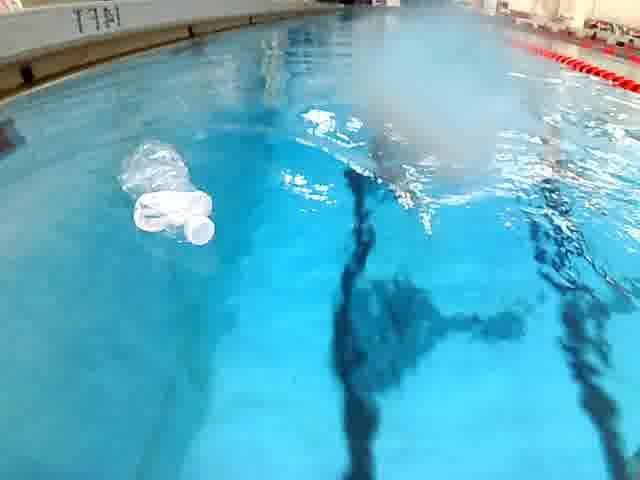Bottle: (116, 136, 225, 250)
